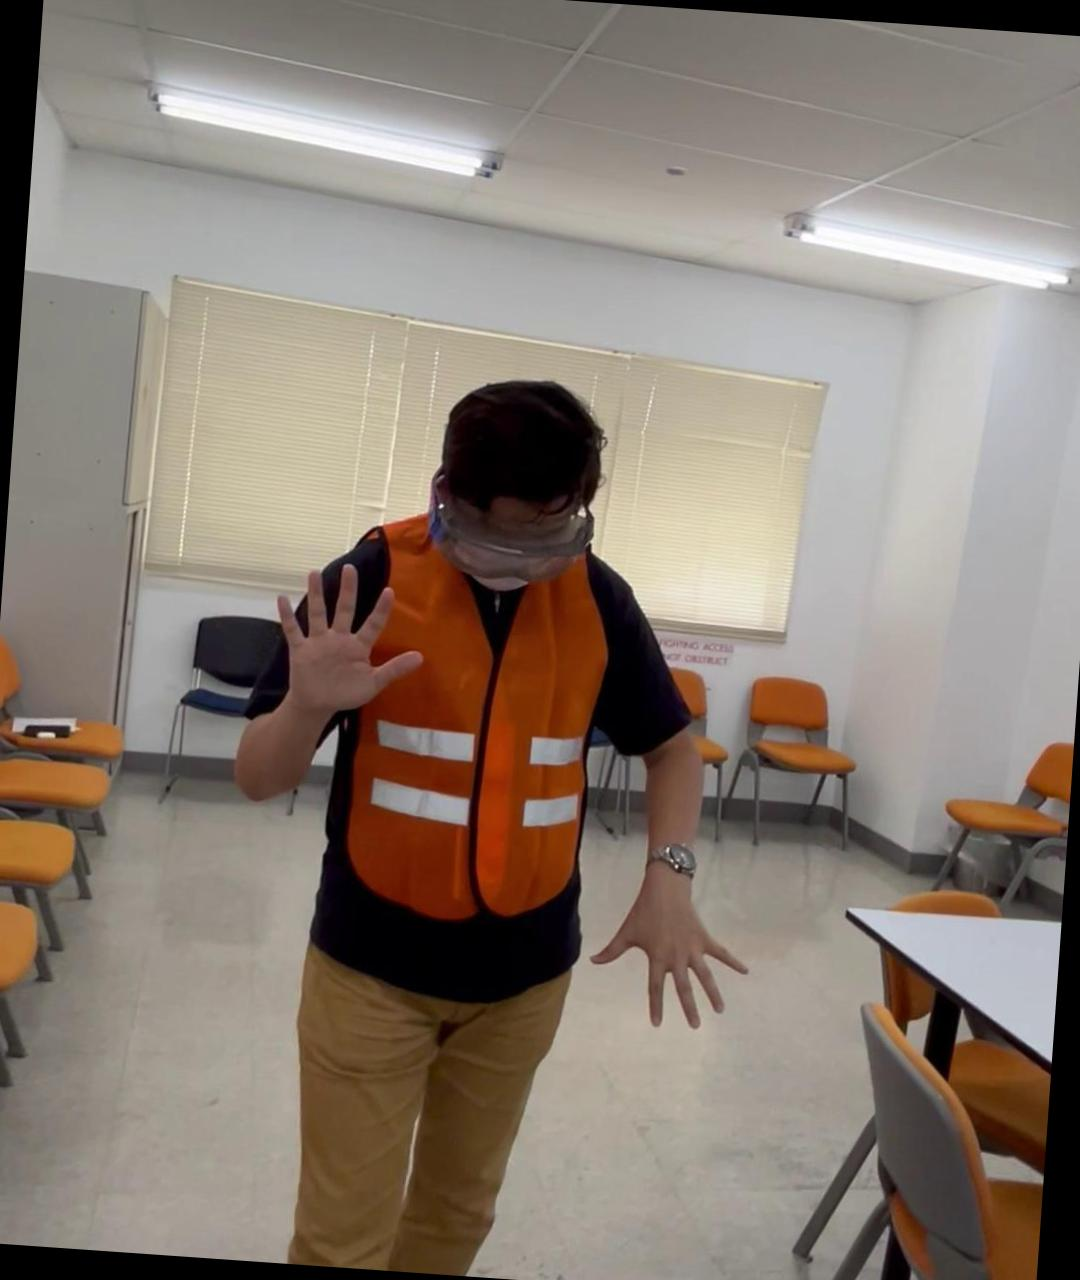No-gloves: (583, 861, 754, 1041), (262, 556, 427, 720)
